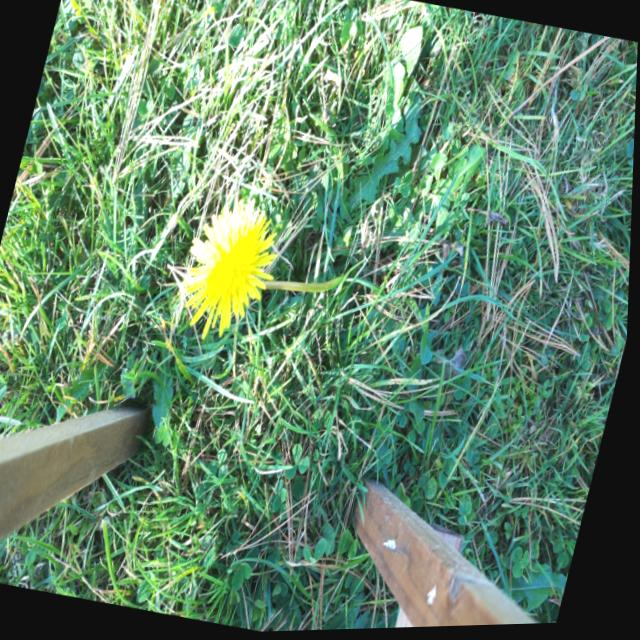base: (330, 260, 358, 301)
